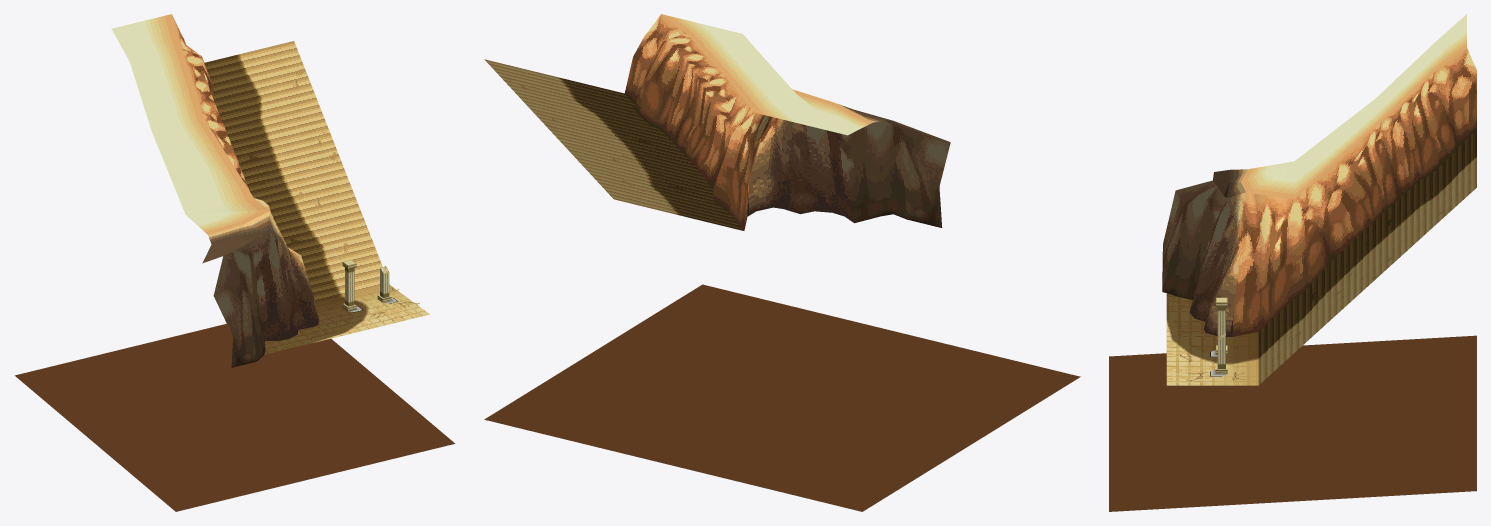
3 renders of one model, left to right at view 1: azimuth 30°, elevation 25°; view 2: azimuth 150°, elevation 25°; view 3: azimuth 270°, elevation 25°, orthographic. The views are drawn at different scales.
Visible parts, largest first — view 1: polygon0, polygon15, polygon10, polygon11, polygon14, polygon6, polygon13, polygon8, polygon12, polygon7, polygon9, polygon2; view 2: polygon0, polygon6, polygon14, polygon15, polygon10, polygon11, polygon12, polygon13; view 3: polygon0, polygon15, polygon10, polygon14, polygon6, polygon11, polygon8, polygon7, polygon12, polygon13, polygon9, polygon2.
Part boxes in pixels (x1,y1,x2,y2): polygon0: (14,15,455,511); polygon15: (111,14,269,234); polygon10: (240,41,389,296); polygon11: (204,54,342,302); polygon14: (202,211,318,340); polygon6: (213,241,265,367); polygon13: (282,68,354,262); polygon8: (316,285,429,342); polygon12: (228,135,311,253); polygon7: (264,299,354,354); polygon9: (300,296,368,345); polygon2: (342,260,356,311); polygon0: (484,14,1080,511); polygon6: (844,120,950,227); polygon14: (747,102,914,222); polygon15: (661,14,872,135); polygon10: (484,59,676,214); polygon11: (558,77,743,230); polygon12: (626,130,713,201); polygon13: (499,75,660,195); polygon0: (1109,48,1476,511); polygon15: (1241,14,1466,198); polygon10: (1258,158,1476,384); polygon14: (1189,169,1247,336); polygon6: (1162,180,1223,299); polygon11: (1258,130,1476,358); polygon8: (1166,322,1258,385); polygon7: (1166,293,1258,357); polygon12: (1302,180,1419,312); polygon13: (1289,199,1452,345); polygon9: (1166,313,1258,364); polygon2: (1216,297,1227,354).
Size of the model in its own units: 4 by 4.73 by 4.
